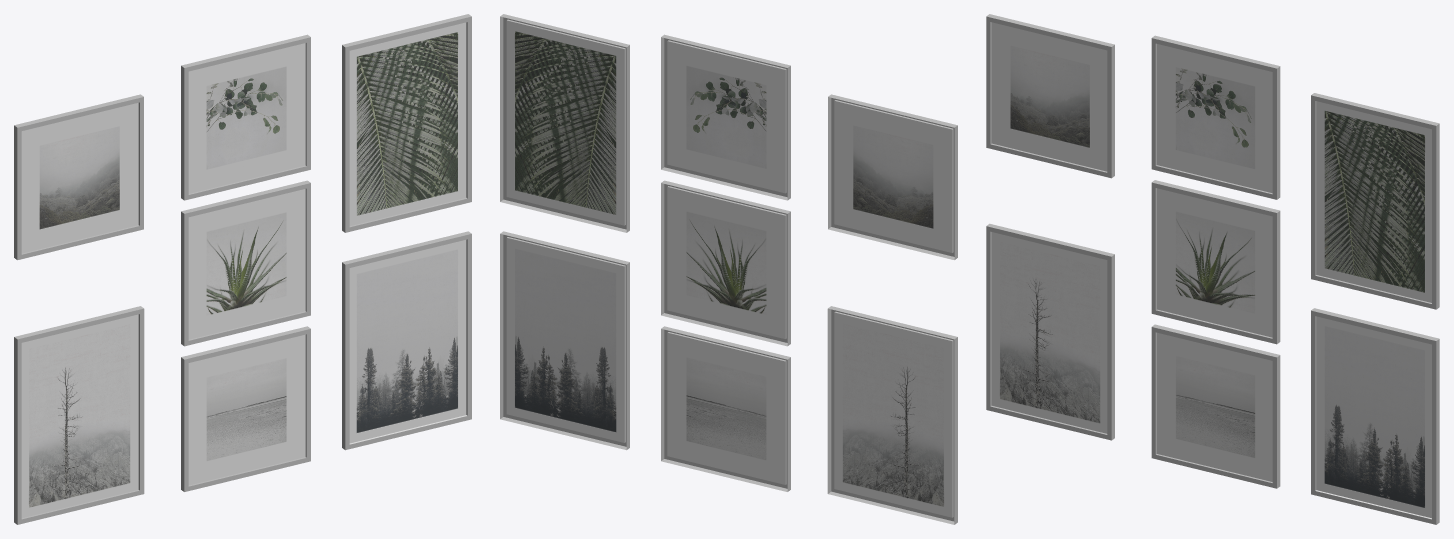
File: geo_pictureFrames_grid.fbx
3 views of the same model, side by side, from view 1: azimuth 30°, elevation 25°; view 2: azimuth 150°, elevation 25°; view 3: azimuth 330°, elevation 25° (orthographic).
Visible parts, largest first — view 1: geo_pictureFrames_grid_LOD0; view 2: geo_pictureFrames_grid_LOD0; view 3: geo_pictureFrames_grid_LOD0.
Part boxes in pixels (x1=…): geo_pictureFrames_grid_LOD0: x1=14, y1=14, x2=471, y2=524; geo_pictureFrames_grid_LOD0: x1=500, y1=14, x2=957, y2=524; geo_pictureFrames_grid_LOD0: x1=986, y1=14, x2=1439, y2=524.
Size of what is drawn, in the model's own units: 1.65 by 1.47 by 0.0215.
